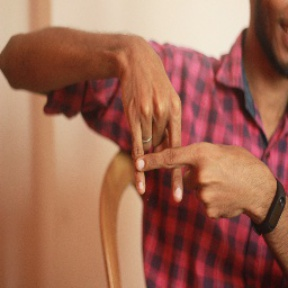H: (117, 105, 218, 205)
